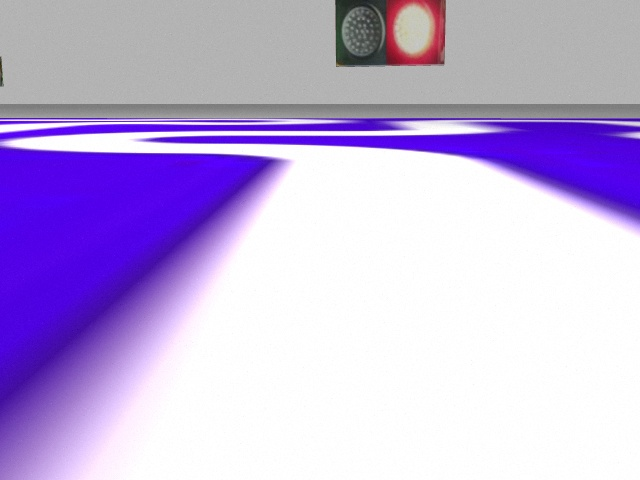red: (388, 2, 446, 66)
